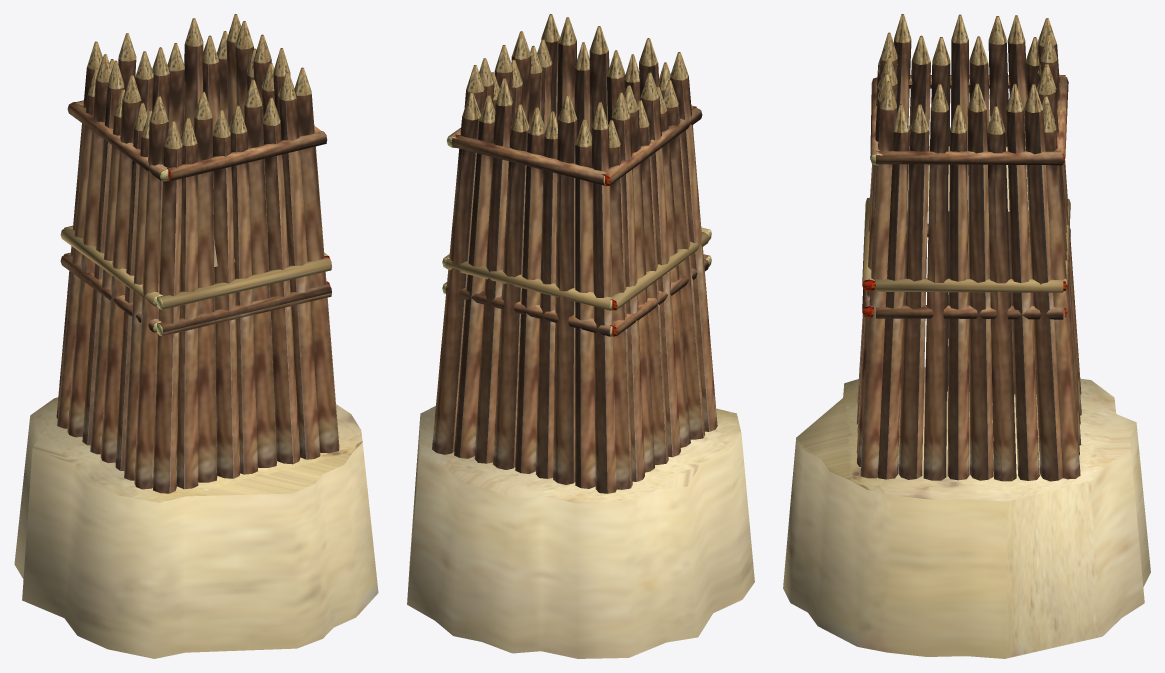
File: wall_tower.dae
3 views of the same model, side by side, from view 1: azimuth 30°, elevation 25°; view 2: azimuth 150°, elevation 25°; view 3: azimuth 270°, elevation 25° (orthographic). The views are drawn at different scales.
Parts seen in each view (by area): view 1: wall_tower; view 2: wall_tower; view 3: wall_tower.
Boxes of the visible parts, <box> form: wall_tower: <box>14,14,378,658</box>; wall_tower: <box>407,14,754,658</box>; wall_tower: <box>783,14,1150,658</box>.
Bounding box in the file's own units: 11.58 × 12.16 × 19.51.
